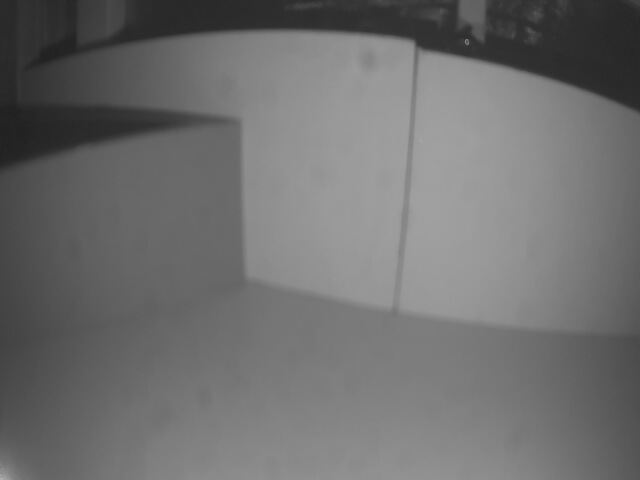Green: (0, 122, 243, 354)
